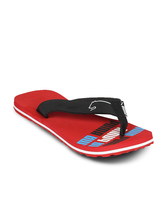shoes: (2, 82, 168, 160)
